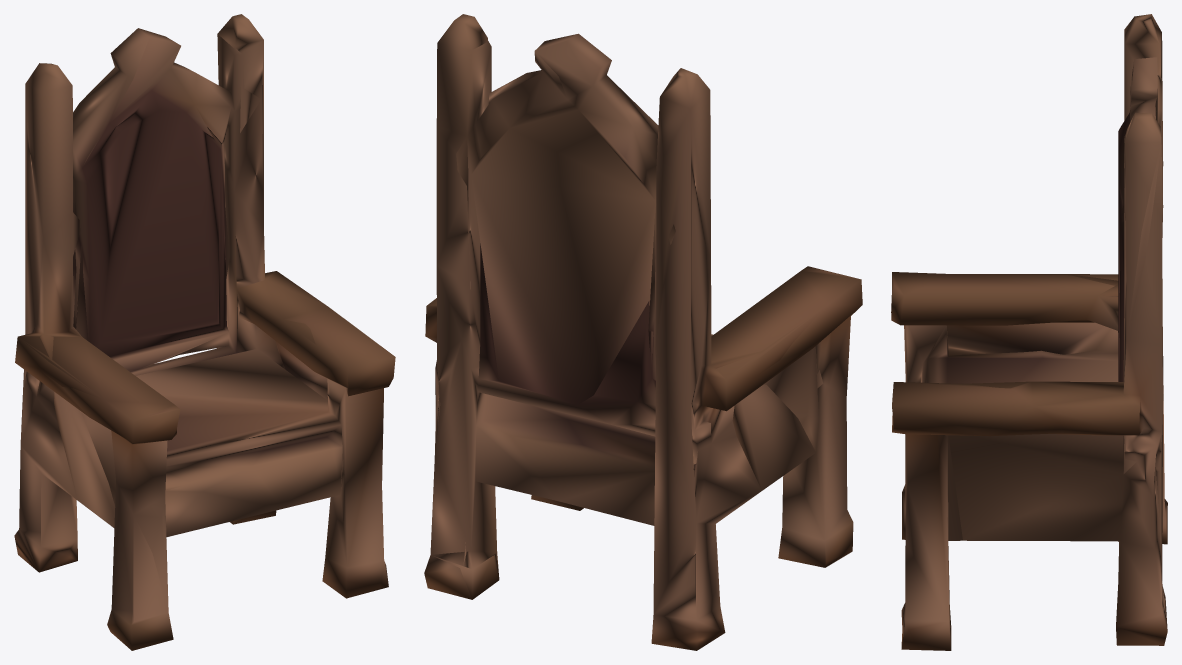
File: gen3d-throne-lod1.glb
3 views of the same model, side by side, from view 1: azimuth 30°, elevation 25°; view 2: azimuth 150°, elevation 25°; view 3: azimuth 270°, elevation 25° (orthographic). The views are drawn at different scales.
Visible parts, largest first — view 1: part_0; view 2: part_0; view 3: part_0.
Boxes of the visible parts, bbox=[...] form: part_0: bbox=[14, 14, 395, 650]; part_0: bbox=[424, 14, 862, 650]; part_0: bbox=[891, 14, 1167, 650].
Size of the model in its own units: 0.5491 by 0.9987 by 0.474.
